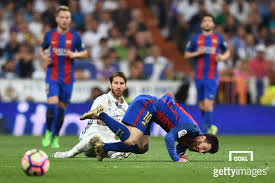barcelona: (90, 97, 218, 165), (39, 5, 87, 149), (189, 17, 234, 136)
realmadrid: (57, 68, 141, 161)
